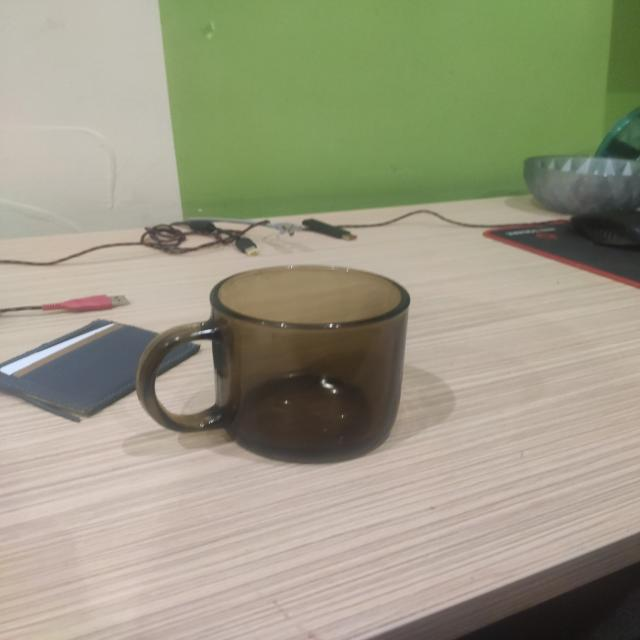cups: (135, 265, 410, 463)
